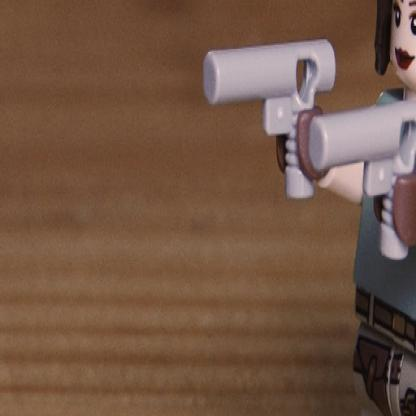gun: (203, 39, 337, 200), (308, 92, 415, 263)
